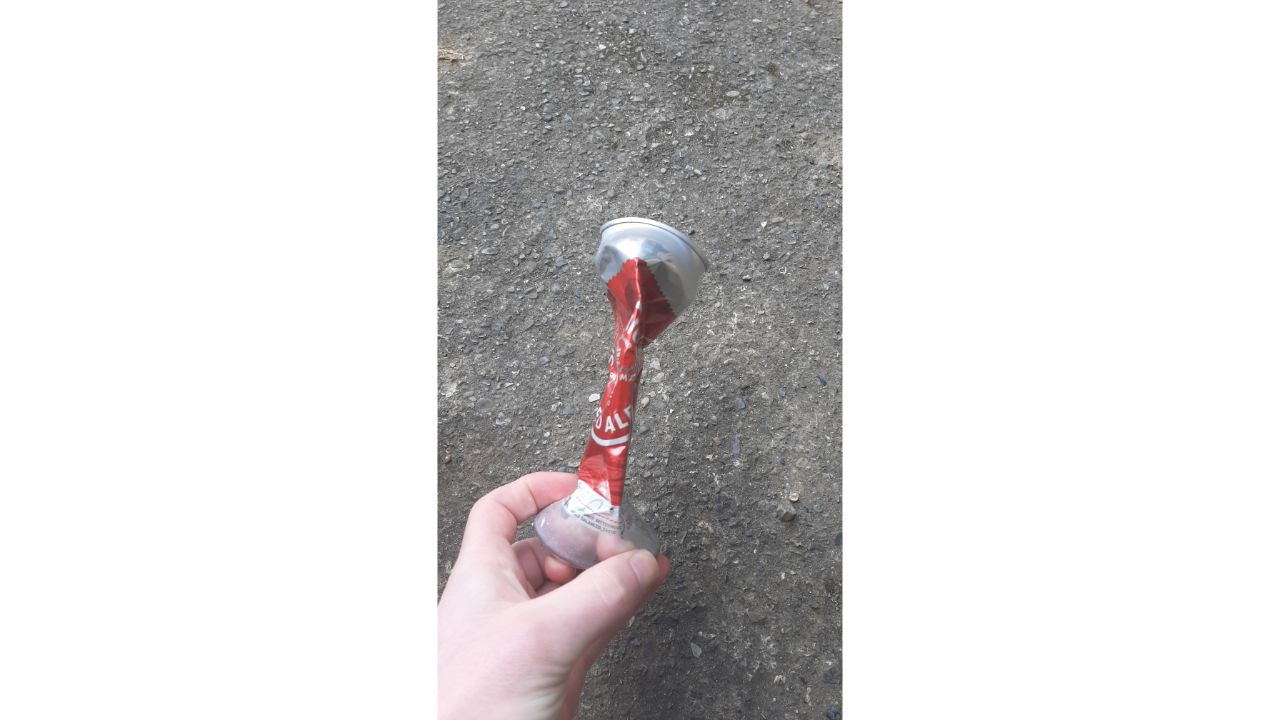Can: (528, 210, 718, 580)
